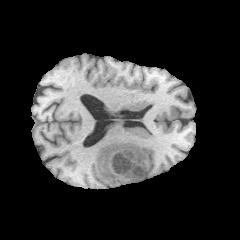glioma: (95, 142, 147, 185)
